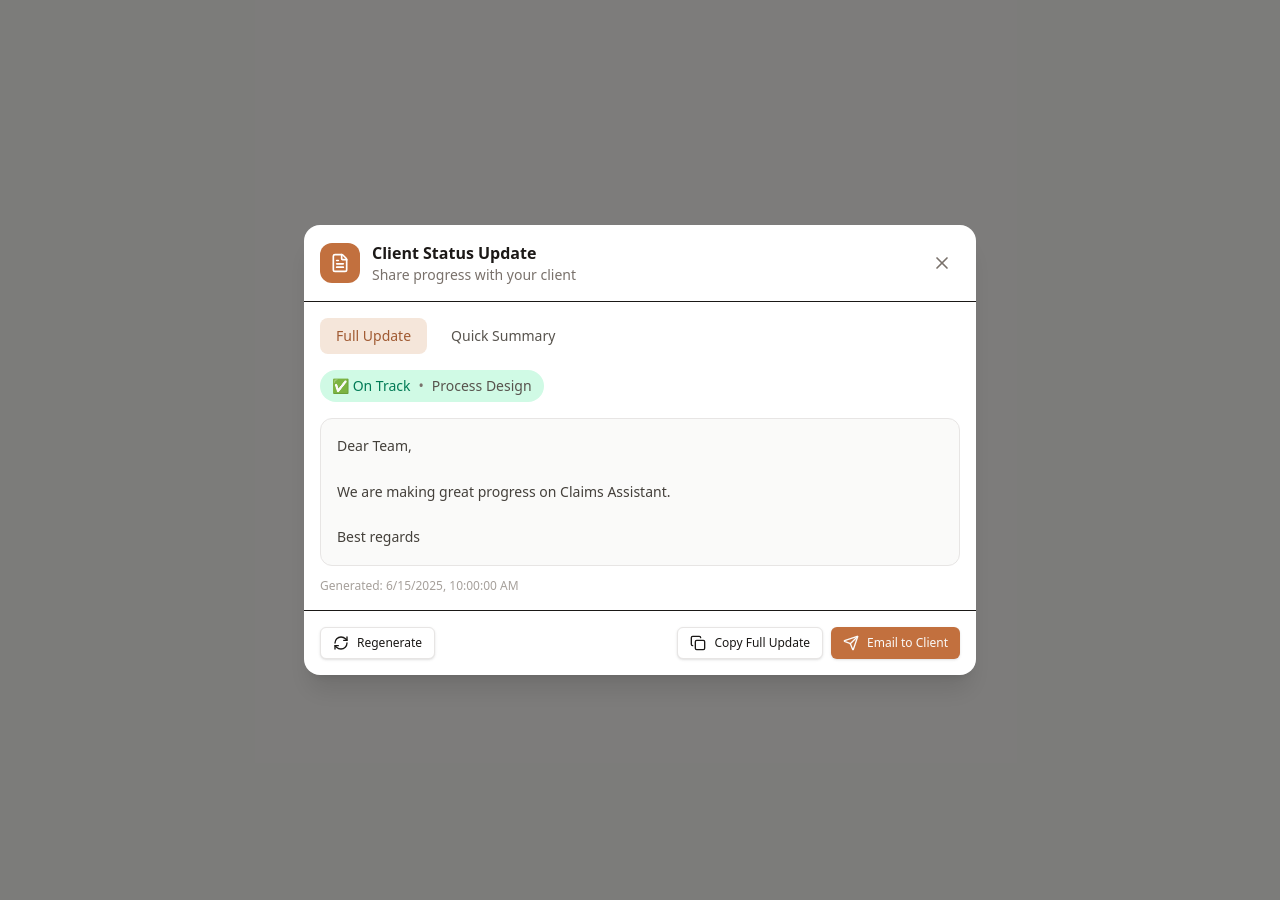
StatusUpdateModal › switches to Quick Summary when tab is clicked
Click the button "Quick Summary". click: (503, 336)
box: [435,318,571,354]
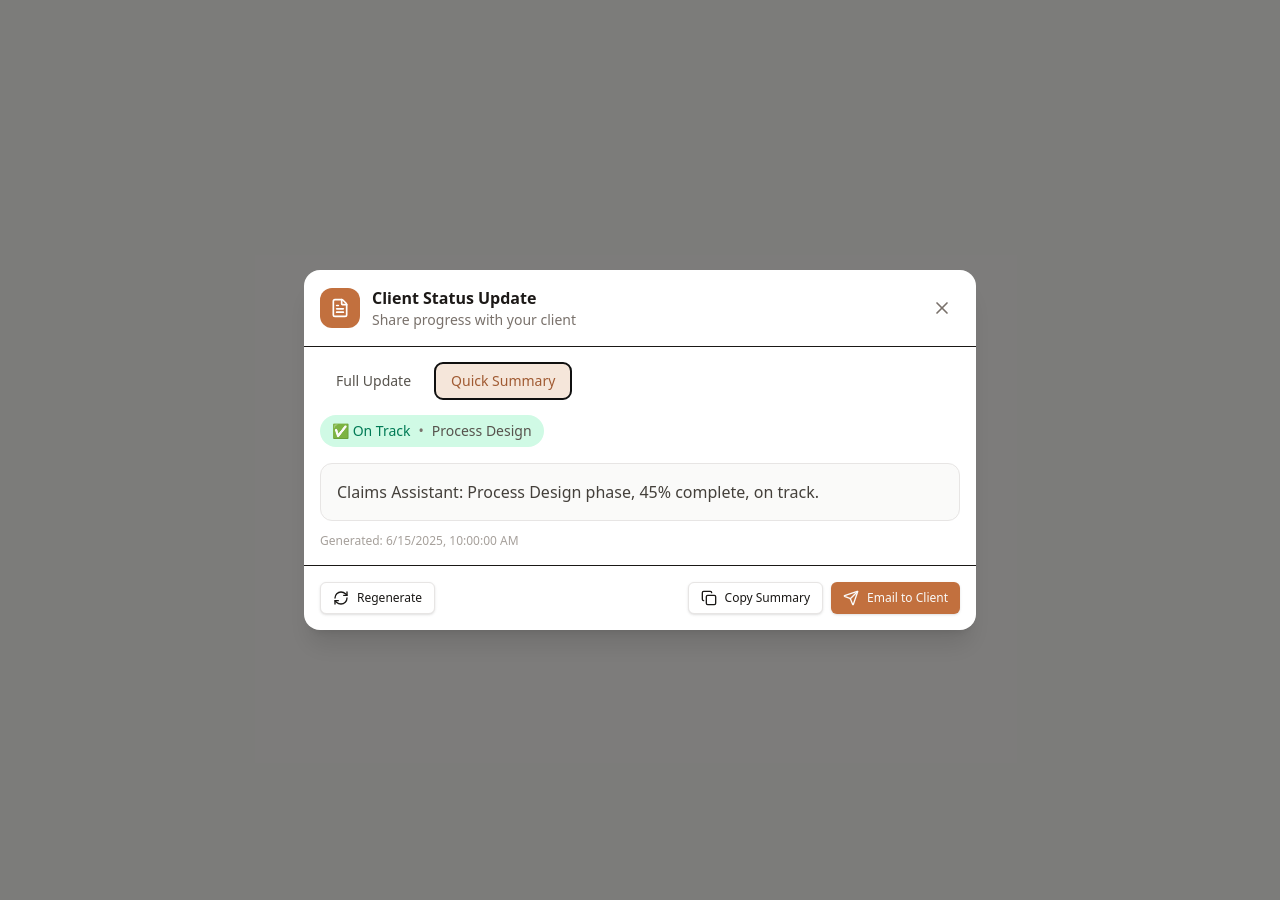
Check: the text "Claims Assistant: Process Design phase, 45% complete, on track." is shown, box [337,481,819,503]
